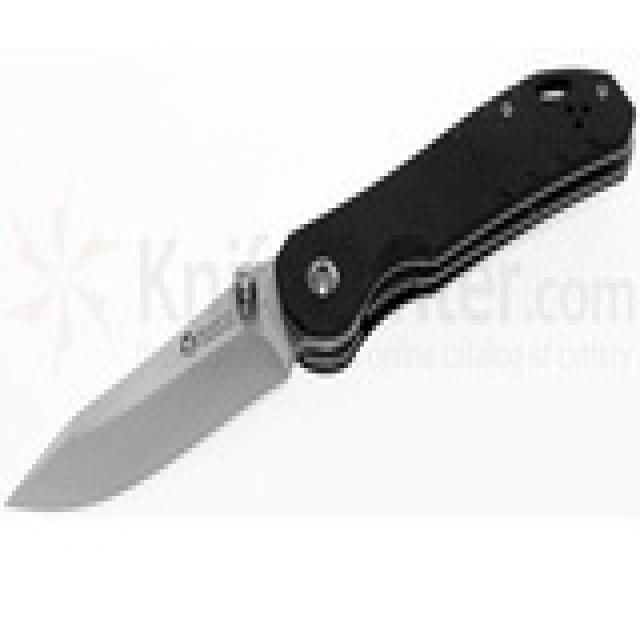Knife: (4, 47, 638, 530)
